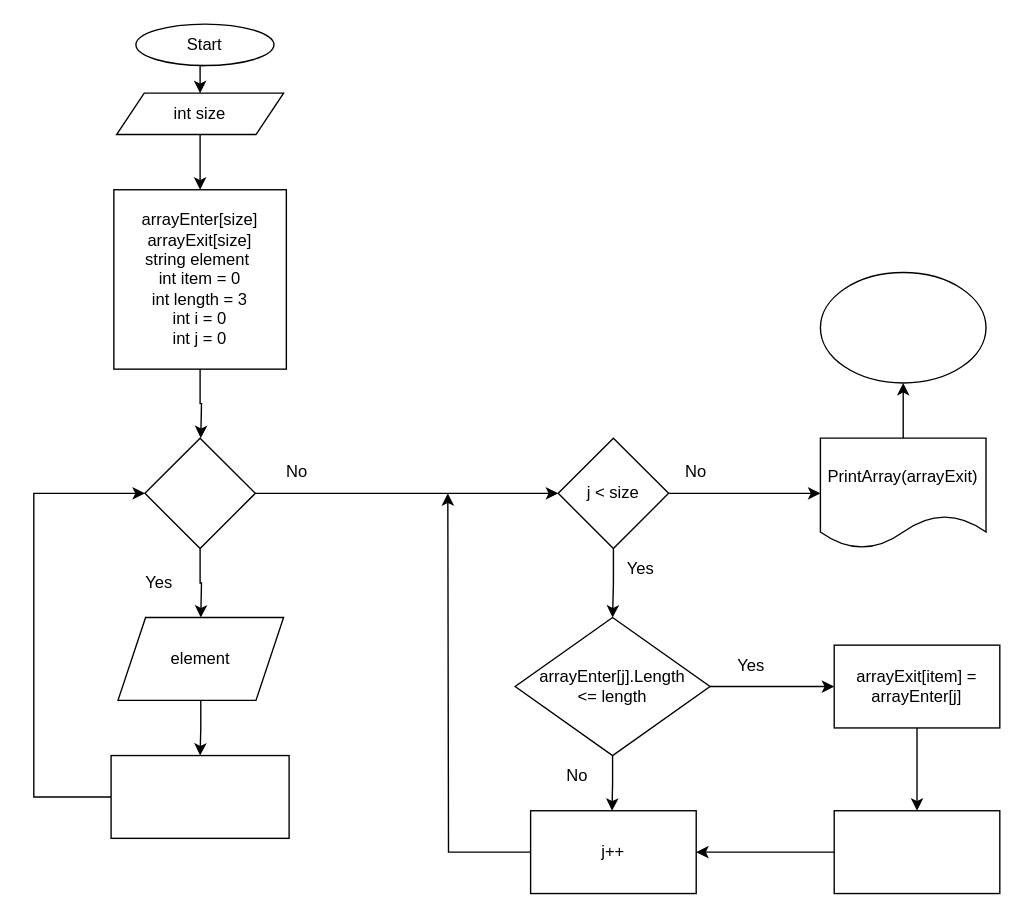
The diagram is 1024 pixels wide and 918 high, and some of its shapes have lost their labels. The shapes that lost their labels are listed below. From the top down, each one's centre as x and y in pixels, then its label:
the point at 902,327: End
the point at 199,493: i < size
the point at 199,796: arrayEnter[i] = element i++
the point at 916,851: item++
